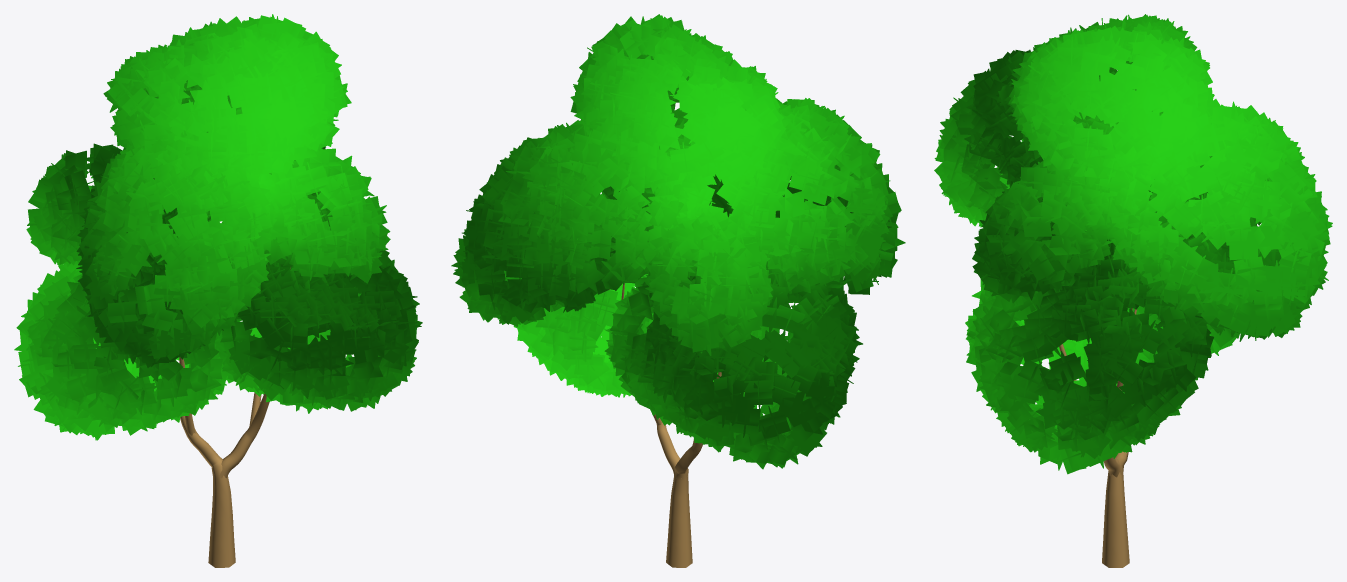
Rendered from StandarTree_1.fbx.
3 views of the same model, side by side, from view 1: azimuth 30°, elevation 25°; view 2: azimuth 150°, elevation 25°; view 3: azimuth 270°, elevation 25° (orthographic). The views are drawn at different scales.
Parts seen in each view (by area): view 1: Leaves, Branch; view 2: Leaves, Branch; view 3: Leaves, Branch.
Boxes of the visible parts, left/top/right/bottom form: Leaves: left=14, top=14, right=422, bottom=440; Branch: left=179, top=266, right=290, bottom=567; Leaves: left=451, top=14, right=905, bottom=469; Branch: left=609, top=283, right=721, bottom=567; Leaves: left=934, top=14, right=1332, bottom=474; Branch: left=1059, top=308, right=1136, bottom=567.
Size of the model in its own units: 486 by 713 by 470.
